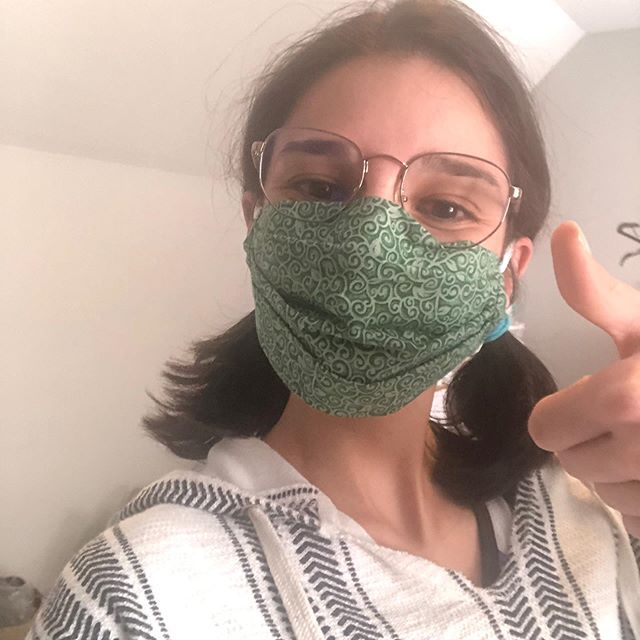homemade: (234, 202, 504, 418)
